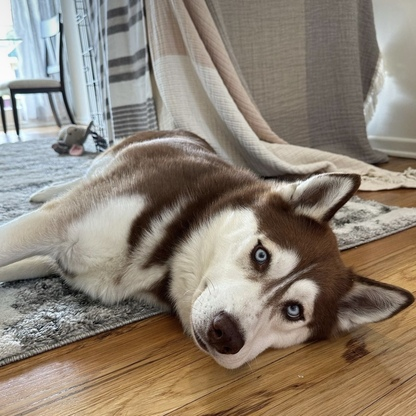husky: (2, 119, 416, 376)
